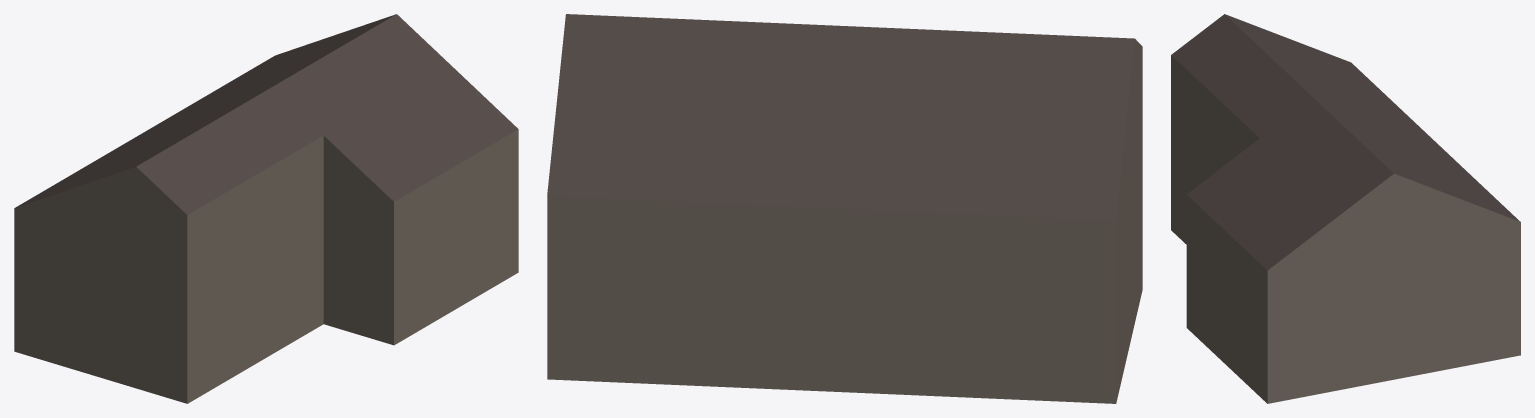
The picture shows the model from 3 angles, left to right: view 1: azimuth 30°, elevation 25°; view 2: azimuth 150°, elevation 25°; view 3: azimuth 270°, elevation 25°; orthographic projection. The views are drawn at different scales.
Visible parts, largest first — view 1: HP-w859447910; view 2: HP-w859447910; view 3: HP-w859447910.
Part boxes in pixels (x1,y1,x2,y2): HP-w859447910: (14,14,518,403); HP-w859447910: (547,14,1142,403); HP-w859447910: (1171,14,1520,403).
Bounding box in the file's own units: 30.15 × 13.91 × 21.4.
